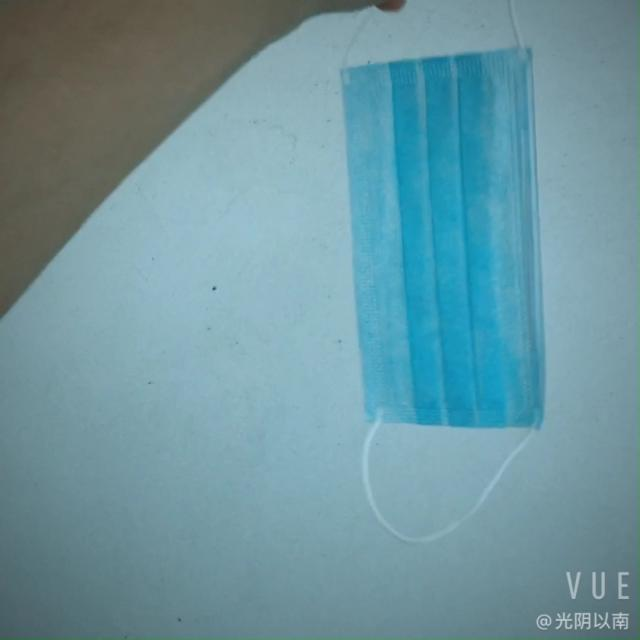face mask: (330, 42, 576, 431)
